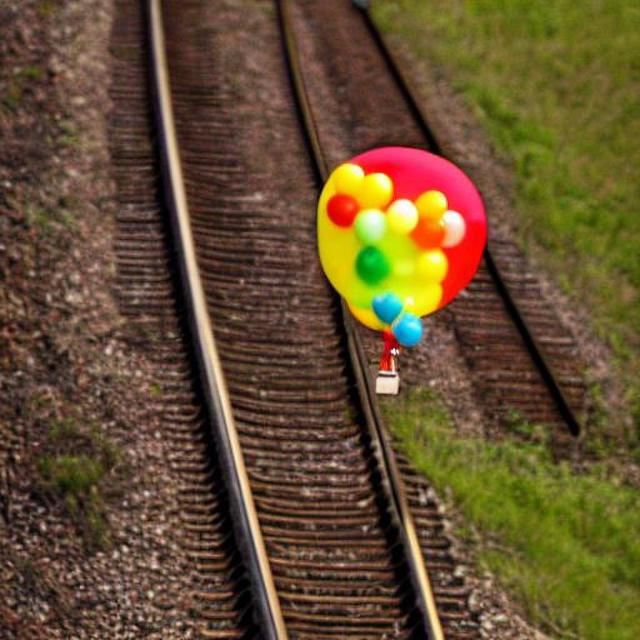balloon: (308, 132, 487, 367)
